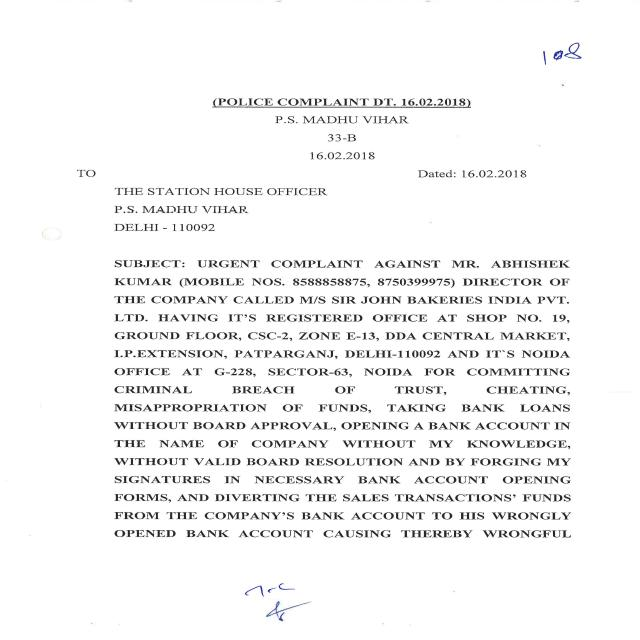page-number: (412, 2, 638, 92)
